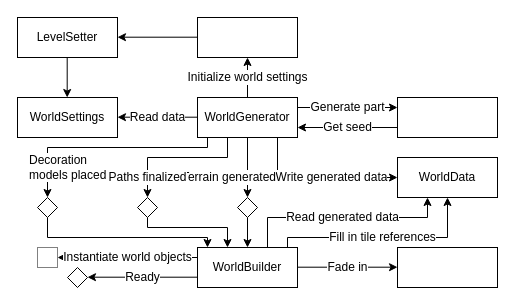
Some shapes in this 515 by 305 pixel diagram are drawn without their labels. The centre of each missing label's shape, as x and y in pixels:
RunPersistence: the point at 247,37
SceneController: the point at 447,267
World generation scripts: the point at 447,117
